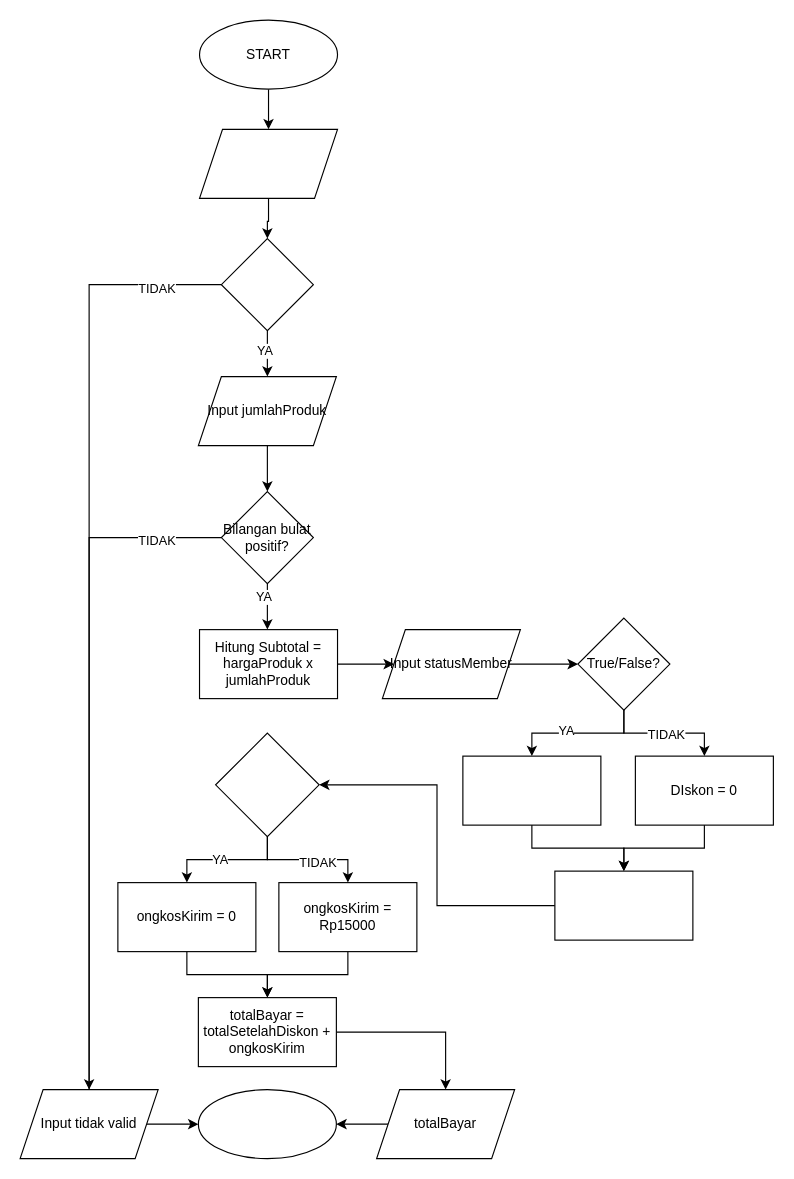
This 794x1179 diagram has some shape labels left out. Here are the shapes that lost their labels. From the top down, the centre of each, then its label:
the point at 268,163: Input hargaProduk
the point at 266,284: Angka Positif?
the point at 266,784: totalSetelahDiskon >= Rp250000?
the point at 531,790: Diskon = Subtotal x 10%
the point at 623,905: totalSetelahDiskon = subtotal - diskon
the point at 266,1123: END
